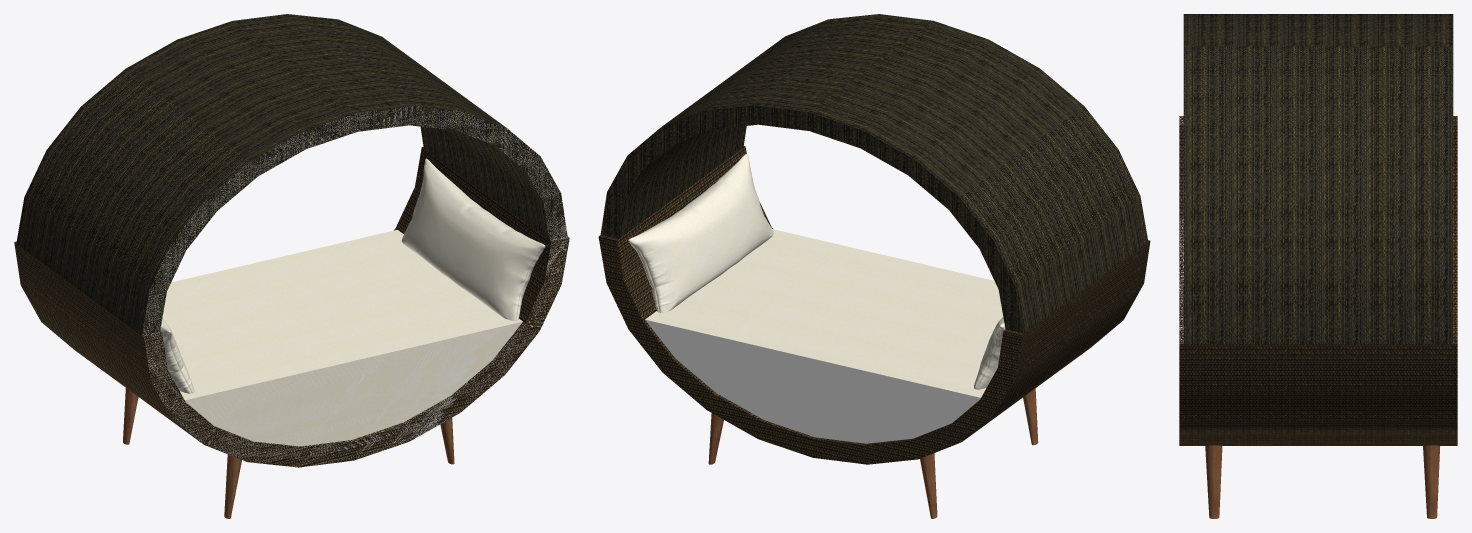
The model's file is daybed furniture 2.dae.
3 renders of one model, left to right at view 1: azimuth 30°, elevation 25°; view 2: azimuth 150°, elevation 25°; view 3: azimuth 270°, elevation 25°, orthographic. The views are drawn at different scales.
Parts seen in each view (by area): view 1: group_0 (×3), Component_6 (×2), group_3; view 2: group_0 (×4), Component_6 (×2), group_4; view 3: group_0 (×2), group_1, group_2.
Boxes of the visible parts, x1,y1,x2,y2 form: group_0 (×3): (14,14,569,467); Component_6 (×2): (160,158,545,393); group_3: (224,454,241,518); group_0 (×4): (598,14,1150,464); Component_6 (×2): (628,154,1005,389); group_4: (920,453,937,518); group_0 (×2): (1179,14,1457,445); group_1: (1205,445,1222,518); group_2: (1423,445,1439,518).
Size of the model in its own units: 92.59 by 48.82 by 80.3.
7 materials, 5 textured.
